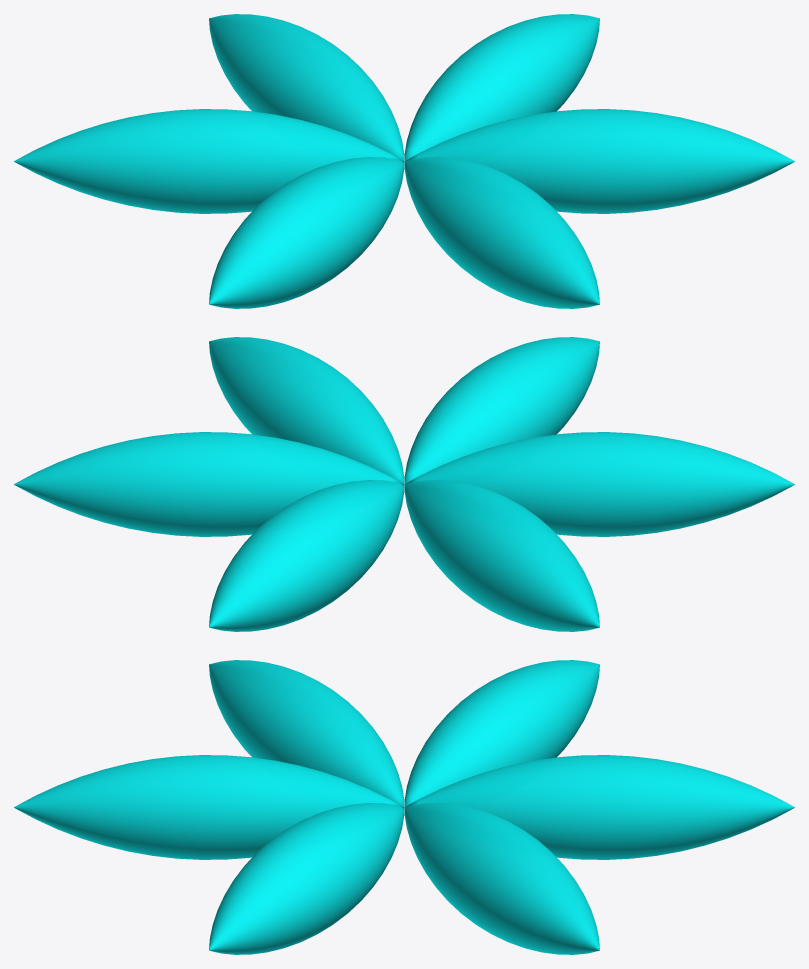
File: flowerOfLife.glb
3 views of the same model, one above another, from view 1: azimuth 30°, elevation 25°; view 2: azimuth 150°, elevation 25°; view 3: azimuth 270°, elevation 25° (orthographic).
Visible parts, largest first — view 1: root; view 2: root; view 3: root.
Part boxes in pixels (x1,y1,x2,y2): root: (14, 14, 794, 308); root: (14, 337, 794, 631); root: (14, 660, 794, 954).
Size of the model in its own units: 1.73 by 0.2684 by 2.
